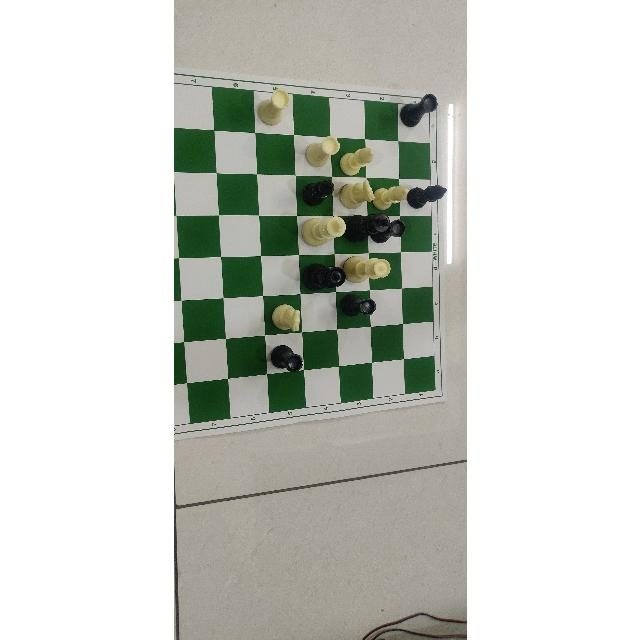black-bishop: (410, 181, 434, 211), (303, 181, 328, 209)
black-king: (342, 216, 366, 245)
black-queen: (311, 260, 335, 296)
black-rook: (277, 339, 307, 373), (371, 217, 399, 249), (339, 302, 369, 326), (406, 106, 424, 136)
white-bishop: (341, 143, 366, 173), (379, 178, 403, 207)
white-king: (300, 217, 330, 249)
white-knight: (272, 304, 306, 332), (341, 185, 369, 213)
white-queen: (343, 261, 371, 281)
white-rook: (253, 96, 289, 129), (294, 142, 326, 167)
